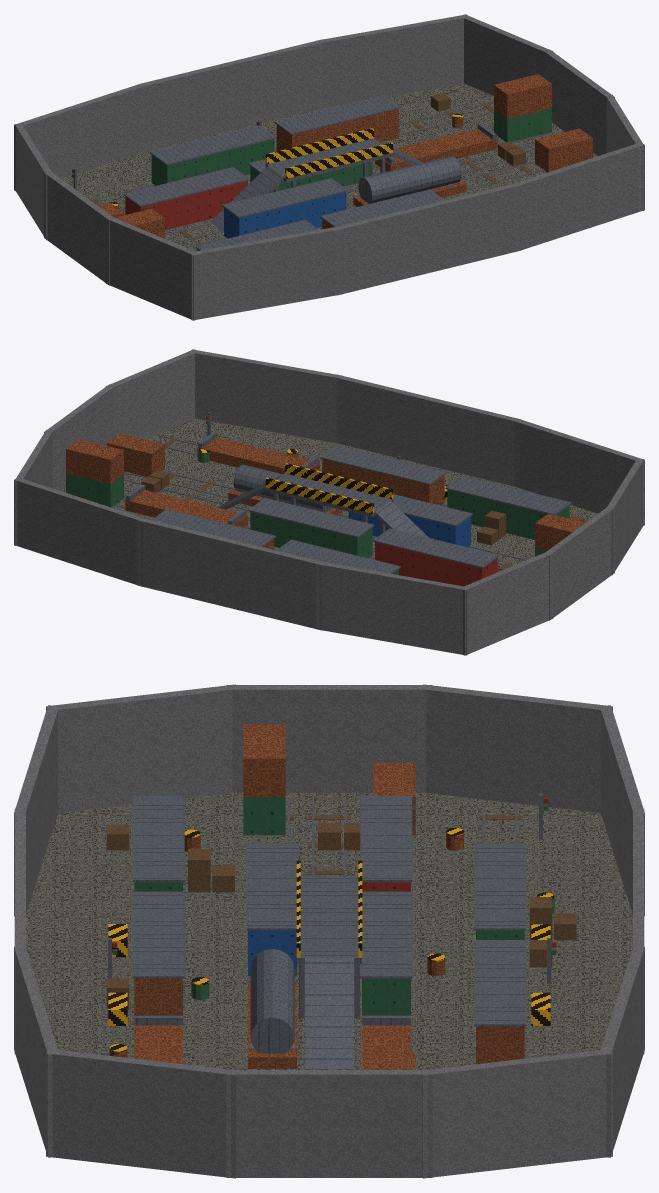
The model's file is snd_switchyard.glb.
3 views of the same model, one above another, from view 1: azimuth 30°, elevation 25°; view 2: azimuth 150°, elevation 25°; view 3: azimuth 270°, elevation 25° (orthographic). The views are drawn at different scales.
Parts seen in each view (by area): view 1: walls-col, cars-col, structures-col, floor-col, rails, props-col; view 2: walls-col, cars-col, structures-col, floor-col, rails; view 3: walls-col, floor-col, cars-col, structures-col, props-col, rails.
Boxes of the visible parts, bbox=[...] form: walls-col: bbox=[14, 14, 644, 320]; cars-col: bbox=[123, 95, 497, 250]; structures-col: bbox=[98, 74, 592, 238]; floor-col: bbox=[61, 83, 597, 251]; rails: bbox=[89, 101, 548, 247]; props-col: bbox=[73, 93, 463, 208]; walls-col: bbox=[14, 349, 644, 655]; cars-col: bbox=[125, 432, 571, 586]; structures-col: bbox=[66, 433, 585, 571]; floor-col: bbox=[61, 418, 597, 569]; rails: bbox=[114, 434, 526, 564]; walls-col: bbox=[14, 684, 644, 1178]; floor-col: bbox=[26, 793, 632, 1069]; cars-col: bbox=[132, 795, 526, 1069]; structures-col: bbox=[108, 724, 576, 1069]; props-col: bbox=[106, 793, 554, 1057]; rails: bbox=[250, 803, 521, 1069].
Bounding box in the file's own units: 56.86 × 7.4 × 38.79.
9 materials, 9 textured.
